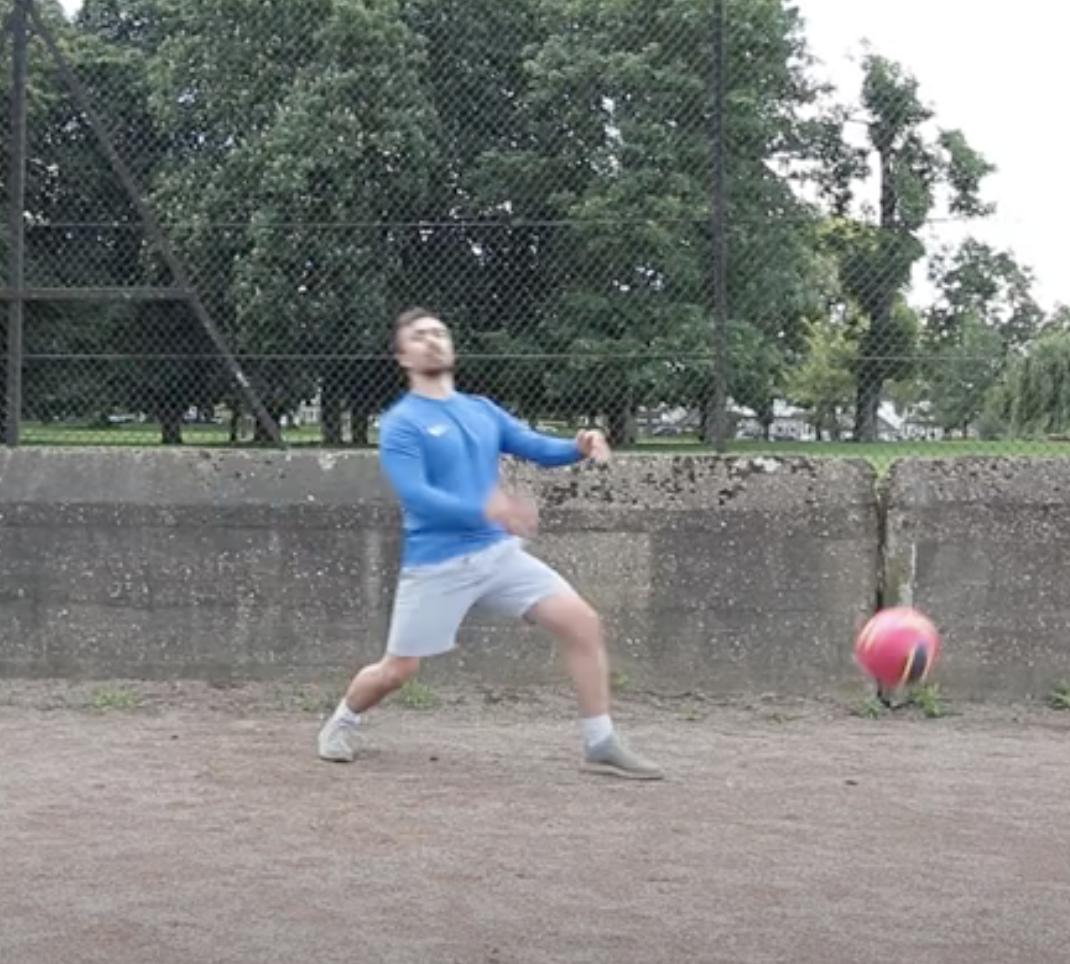ball: (855, 610, 941, 694)
foot: (579, 728, 668, 787), (313, 709, 354, 768)
person: (318, 302, 655, 783)
